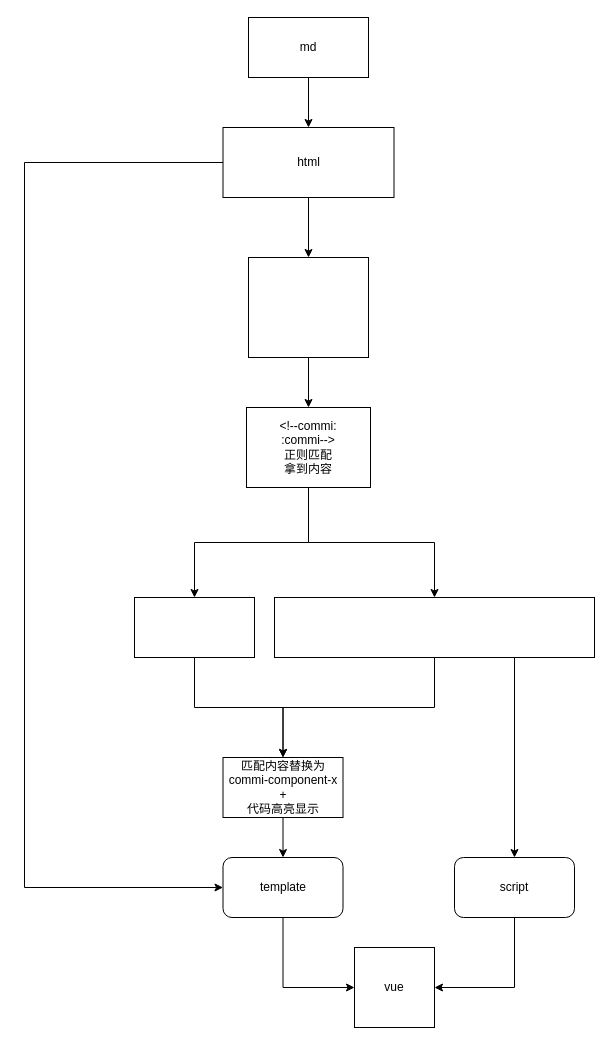
Some shapes in this 612 by 1045 pixel diagram are drawn without their labels. Here are the shapes that lost their labels. From the top down, the centre of each, then its label:
At (x=308, y=307): ":::demo ::: 部分替换为 <!--commi: :commi-->".
At (x=194, y=627): "将内容使用vue代码高亮显示".
At (x=434, y=627): "拆组件，进一步匹配template script style（公共组件这部分不应该有） 注册局部组件，commi-component-x替换匹配的内容部分".
